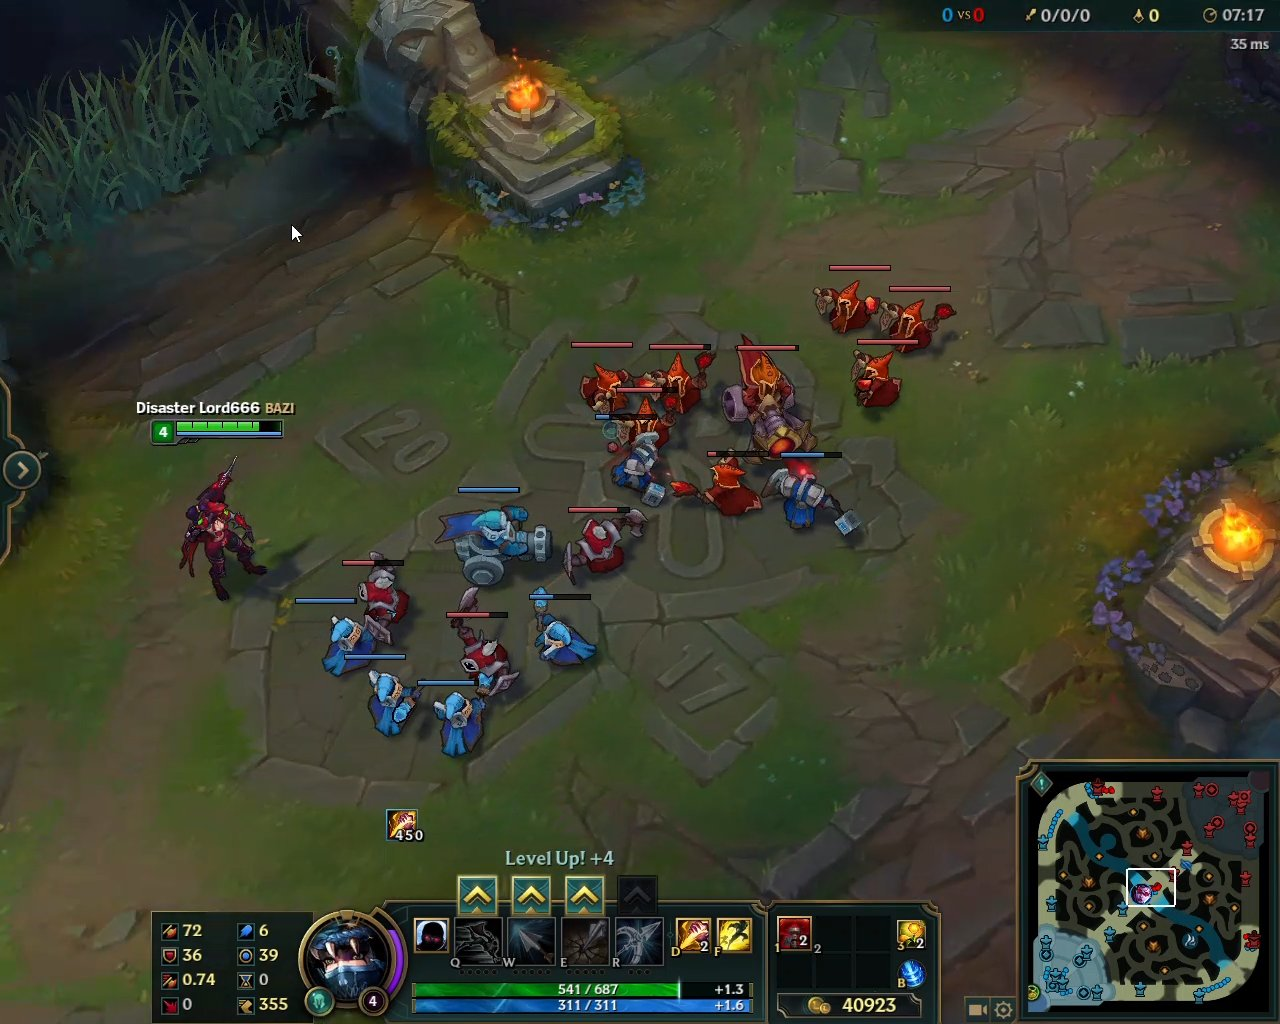EnemyMinion: (722, 331, 820, 472), (447, 585, 527, 704), (556, 505, 651, 590), (669, 449, 772, 521), (339, 549, 415, 645), (568, 338, 647, 422), (876, 284, 959, 357), (647, 338, 720, 414), (812, 265, 890, 335), (845, 339, 920, 409), (610, 385, 680, 453)
Vayne: (168, 453, 272, 610)
